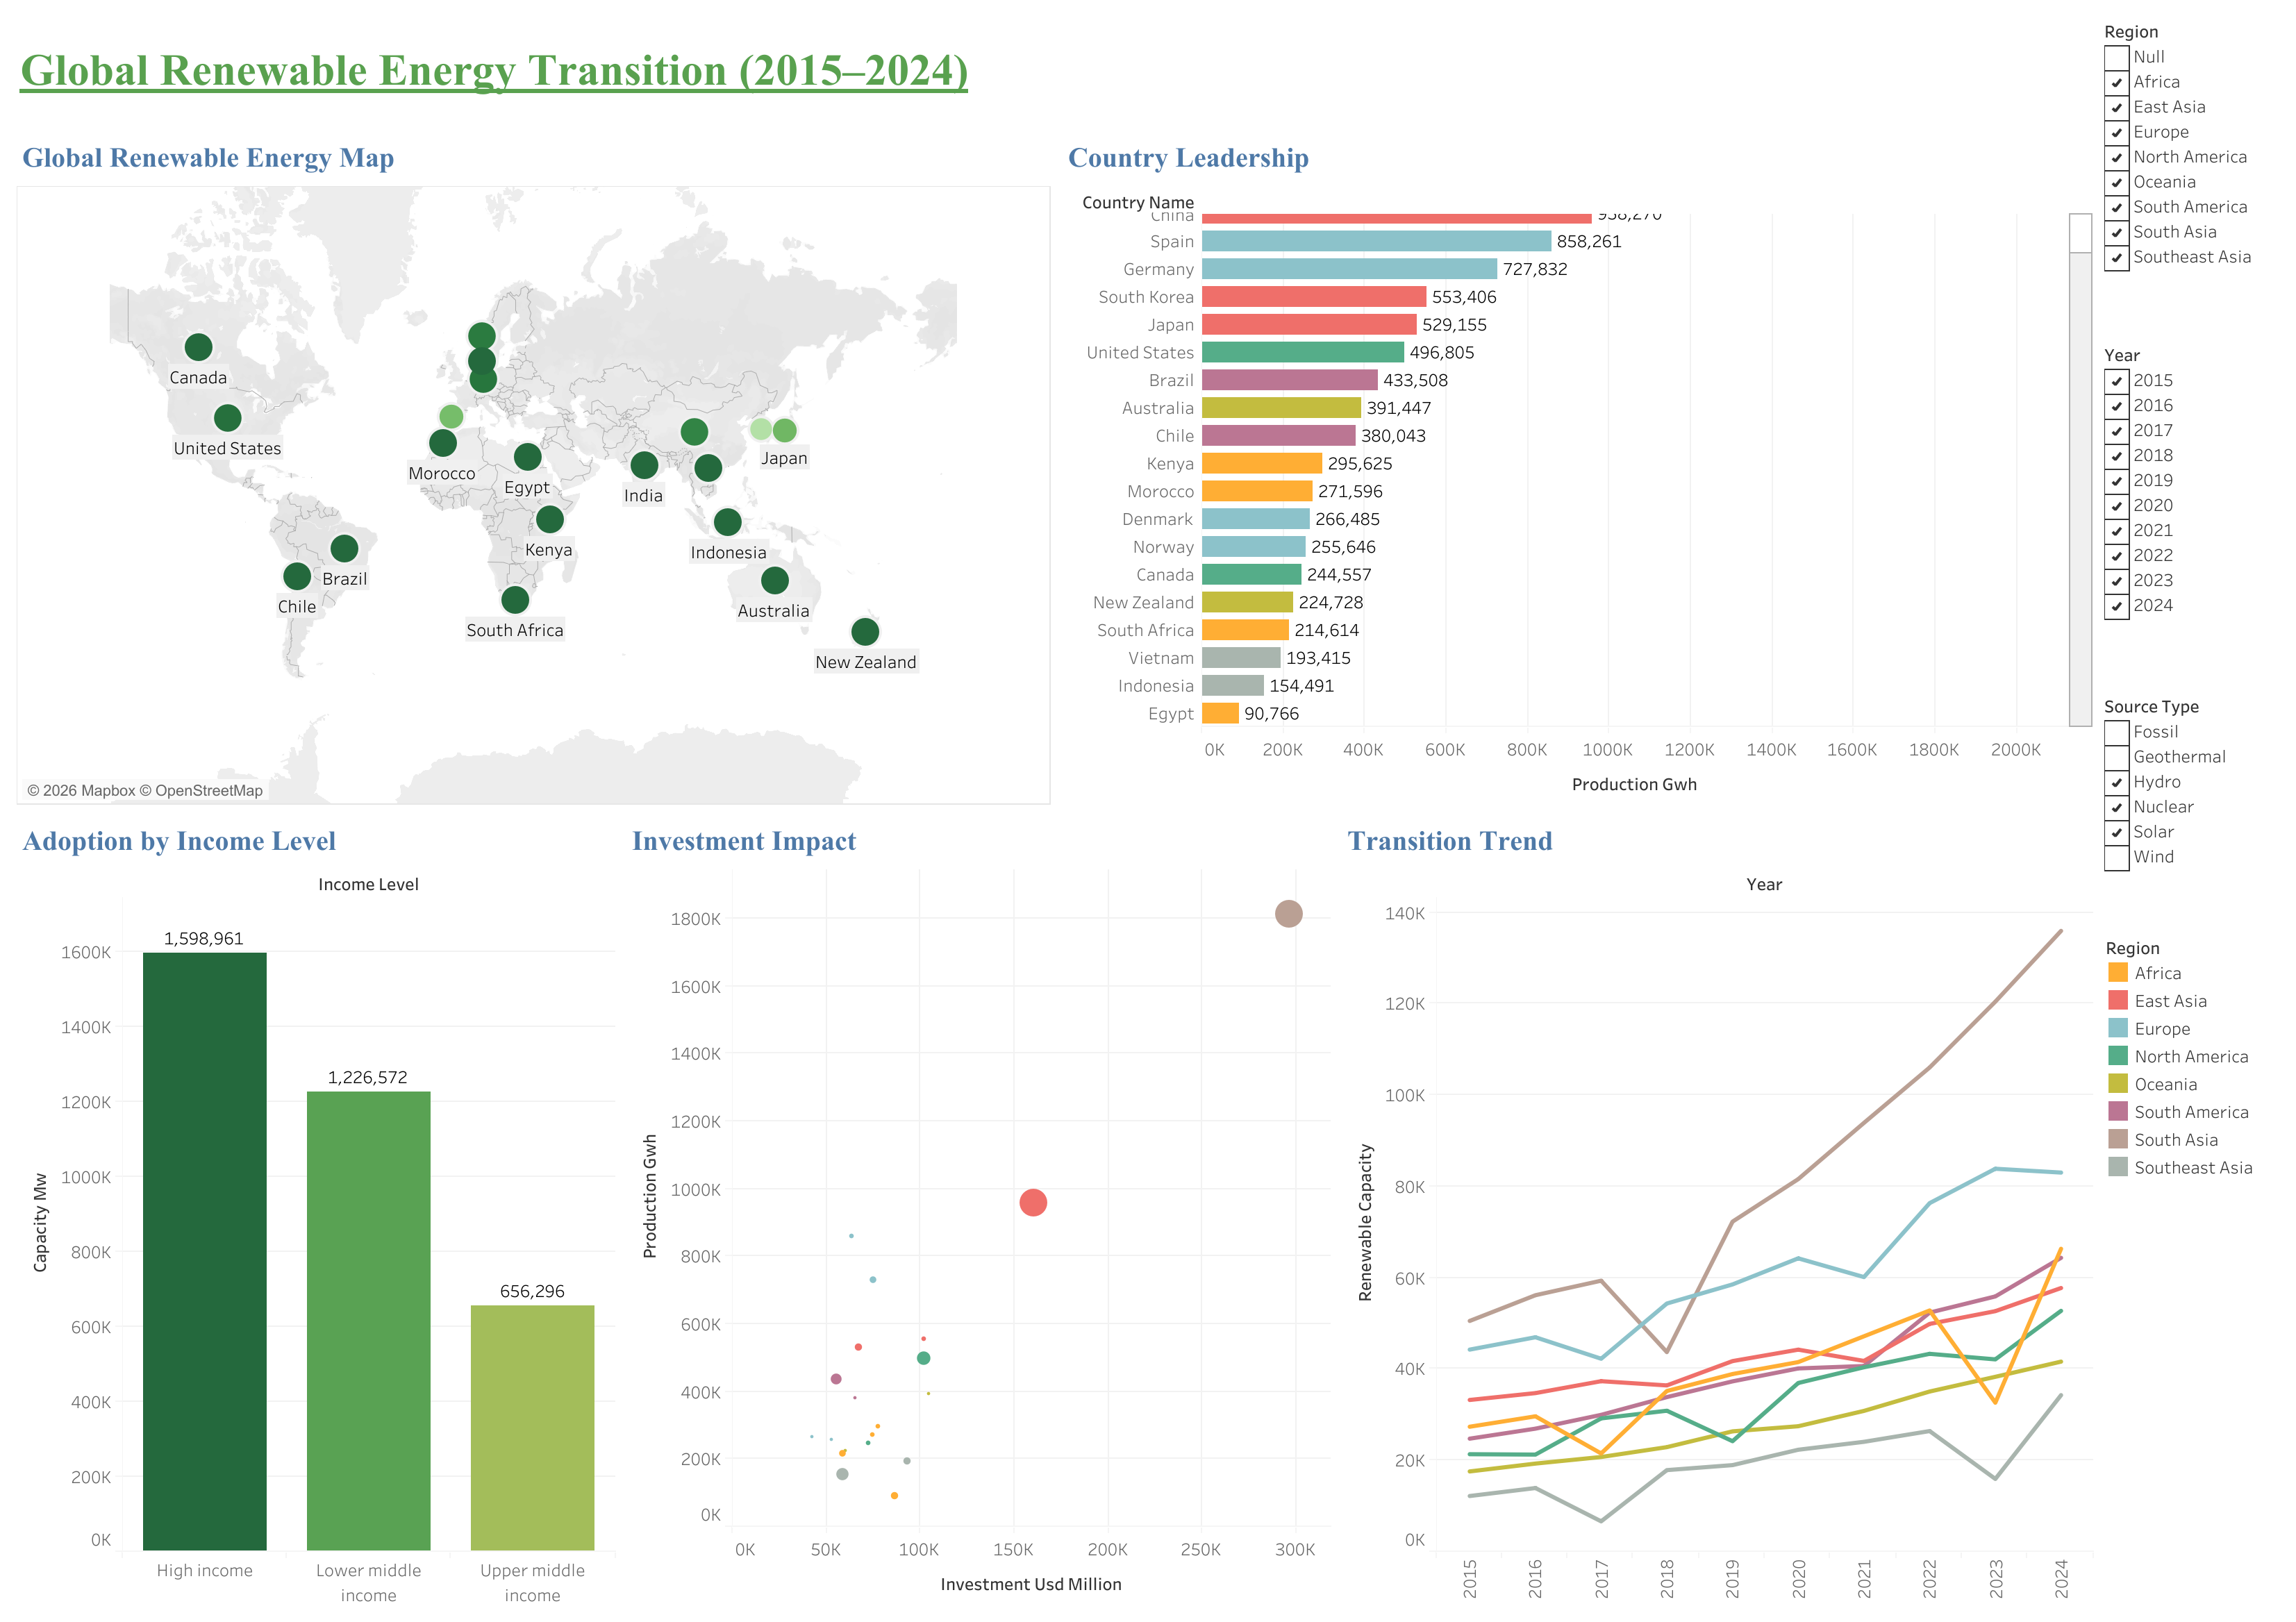

This screenshot's page, from the dashboard's own definition file:
{"tool":"tableau","page":{"name":"Dashboard 1","canvas":[1500,1000],"ordinal":0},"visuals":[{"type":"text","box":[8,8,1362,84]},{"type":"filter","title":"Global Renewable Energy Map","param":"[federated.1na25ty0nosq2h1bx3x4m0sydfcm].[none:region:nk]","box":[1370,8,122,266]},{"type":"worksheet","title":"Global Renewable Energy Map","mark":"Automatic","box":[8,92,672,408]},{"type":"worksheet","title":"Country Leadership","mark":"Bar","rows":["country_name"],"cols":["production_gwh"],"box":[680,92,690,408]},{"type":"filter","title":"Global Renewable Energy Map","param":"[federated.1na25ty0nosq2h1bx3x4m0sydfcm].[none:year:nk]","box":[1370,274,122,289]},{"type":"worksheet","title":"Adoption by Income Level","mark":"Automatic","rows":["capacity_mw"],"cols":["income_level"],"box":[8,500,398,492]},{"type":"worksheet","title":"Investment Impact","mark":"Circle","rows":["production_gwh"],"cols":["investment_usd_million"],"box":[406,500,466,492]},{"type":"worksheet","title":"Transition Trend","mark":"Line","rows":["Calculation_5038463591665665"],"cols":["year"],"box":[872,500,498,492]},{"type":"filter","title":"Country Leadership","param":"[federated.1na25ty0nosq2h1bx3x4m0sydfcm].[none:source_type:nk]","box":[1370,563,122,197]},{"type":"legend","title":"Country Leadership","param":"[federated.1na25ty0nosq2h1bx3x4m0sydfcm].[none:region:nk]","box":[1370,760,122,219]}]}

Visuals, with their boxes on the page's 1500x1000 design canvas (x1, y1, x2, y2). These are canvas units, not pixel positions in the 2296x1622 screenshot, which may show the page scaled, cropped or inside an application window:
text: {"x1": 8, "y1": 8, "x2": 1370, "y2": 92}
"Global Renewable Energy Map" filter: {"x1": 1370, "y1": 8, "x2": 1492, "y2": 274}
"Global Renewable Energy Map" worksheet: {"x1": 8, "y1": 92, "x2": 680, "y2": 500}
"Country Leadership" worksheet (Bar marks): {"x1": 680, "y1": 92, "x2": 1370, "y2": 500}
"Global Renewable Energy Map" filter: {"x1": 1370, "y1": 274, "x2": 1492, "y2": 563}
"Adoption by Income Level" worksheet: {"x1": 8, "y1": 500, "x2": 406, "y2": 992}
"Investment Impact" worksheet (Circle marks): {"x1": 406, "y1": 500, "x2": 872, "y2": 992}
"Transition Trend" worksheet (Line marks): {"x1": 872, "y1": 500, "x2": 1370, "y2": 992}
"Country Leadership" filter: {"x1": 1370, "y1": 563, "x2": 1492, "y2": 760}
"Country Leadership" legend: {"x1": 1370, "y1": 760, "x2": 1492, "y2": 979}
